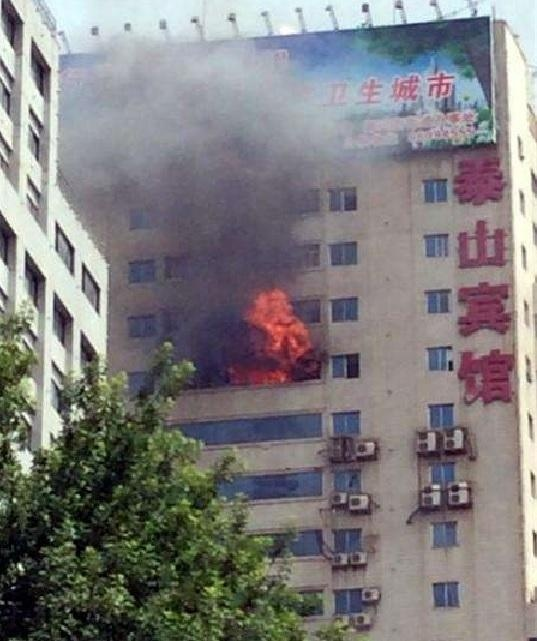fire: (226, 287, 314, 385)
